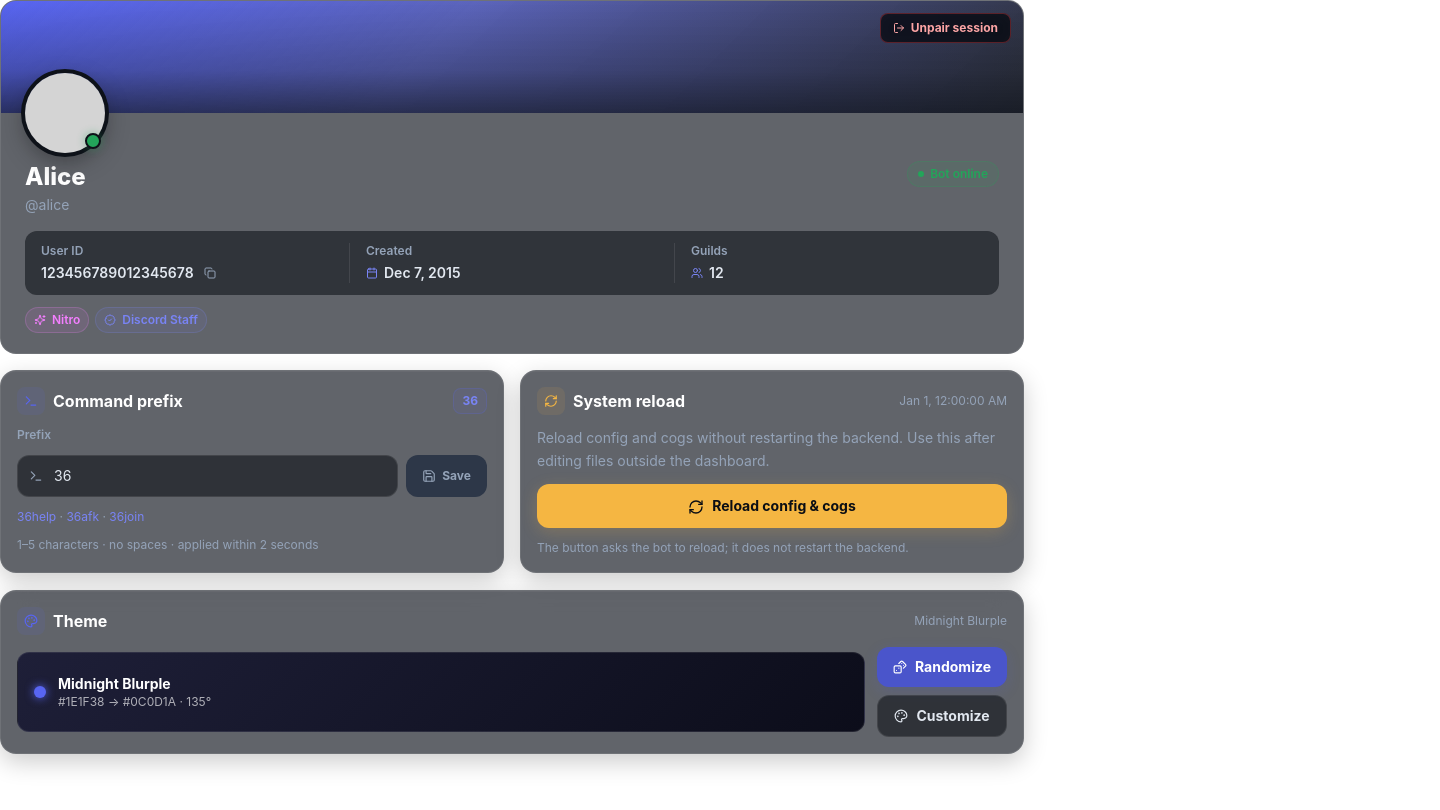
Test: SettingsView › loads the prefix and saves a changed prefix with csrf
Later steps or results of the test are not shown.
Check: the button with aria-label "Save prefix" is disabled, box [406,455,487,497]
Replace the text in the field named "Command prefix" with "!": (208, 476) [17,455,398,497]
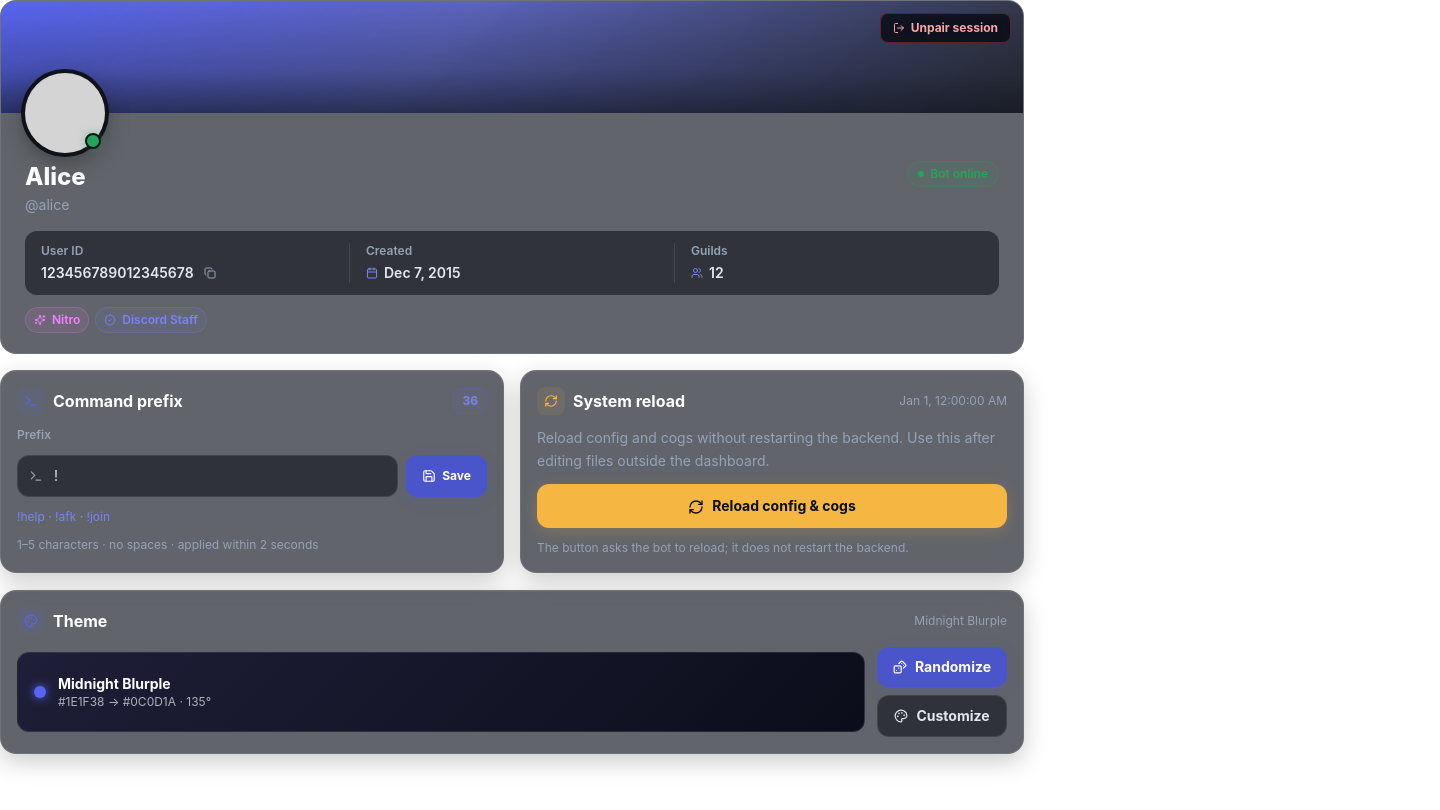
Check: the button with aria-label "Save prefix" is enabled, box [406,455,487,497]
